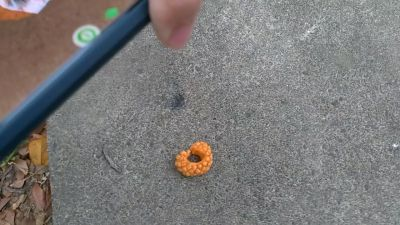eggs: (171, 140, 215, 177)
